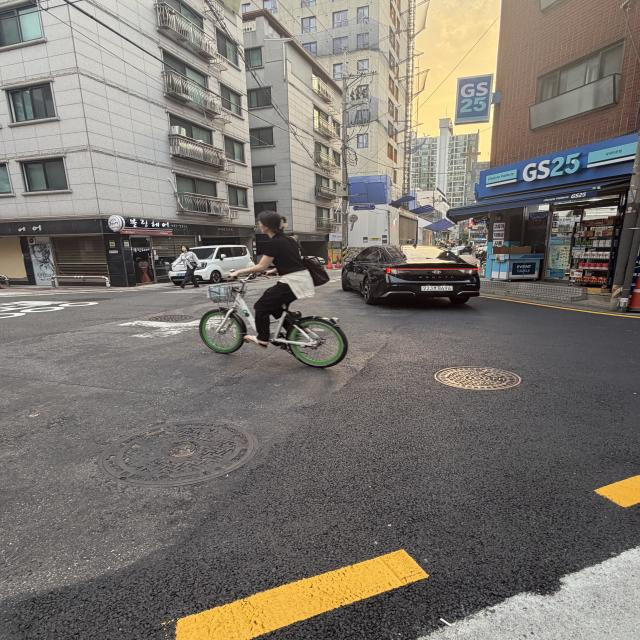bicycle: (188, 200, 376, 388)
car: (330, 229, 500, 326), (164, 234, 258, 287)
